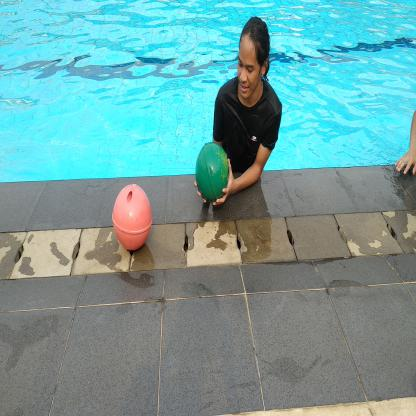green_buoy: (194, 137, 234, 211)
red_buoy: (108, 174, 156, 260)
